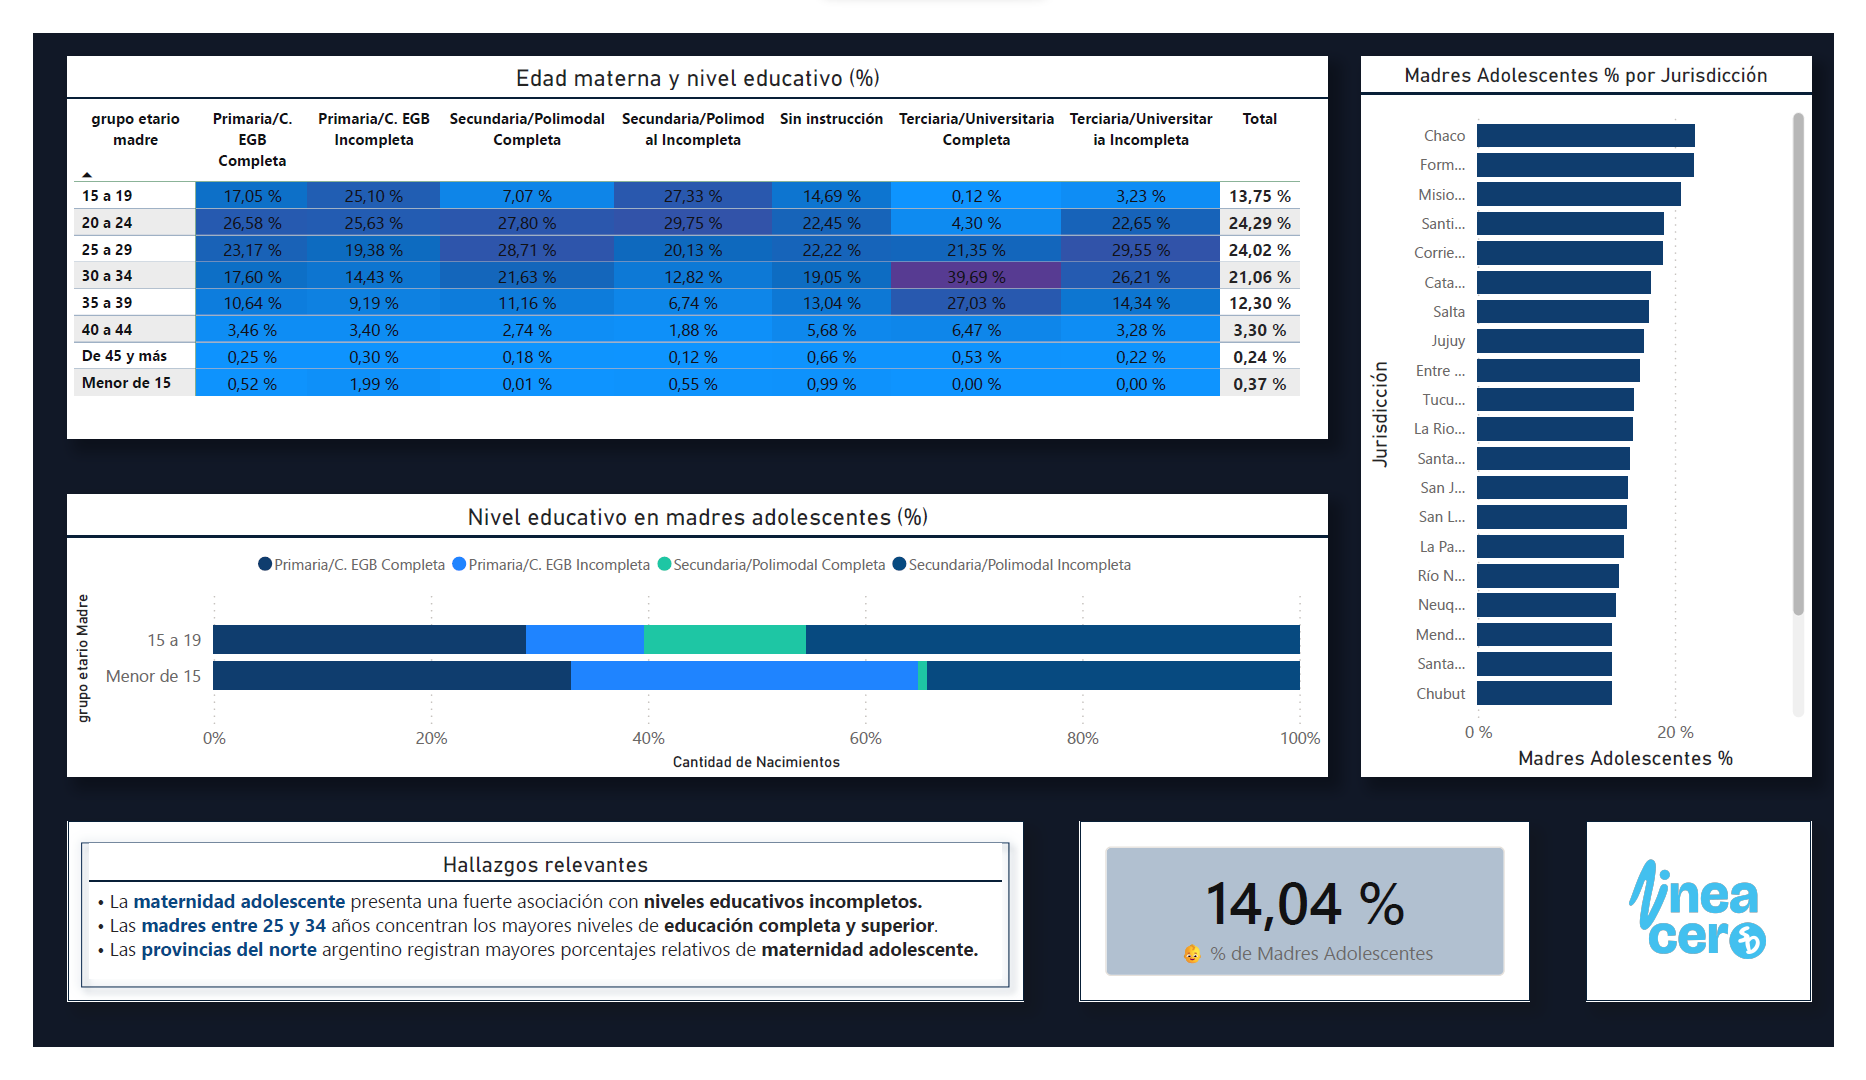

Layout of this report page (visuals, bound fields, positions):
{"tool":"powerbi","page":{"name":"Perfil Materno y Social","canvas":[1280,720],"ordinal":1},"visuals":[{"type":"pivotTable","title":"Edad materna y nivel educativo (%)","fields":{"Rows":["dim dim_edad_madre.edad_madre_grupo"],"Columns":["dim dim_instruccion.instruccion_madre"],"Values":["fact fact_nacimientos.Porcentaje_Nacimientos"]},"box":[24,16,896,272],"z":0},{"type":"hundredPercentStackedBarChart","title":"Nivel educativo en madres adolescentes (%)","fields":{"Category":["dim dim_edad_madre.edad_madre_grupo"],"Series":["dim dim_instruccion.instruccion_madre"],"Y":["Sum(fact fact_nacimientos.nacimientos_cantidad)"]},"box":[24,328,896,200],"z":1000},{"type":"clusteredBarChart","fields":{"Category":["dim dim_jurisdiccion.jurisdicion_residencia_nombre"],"Y":["fact fact_nacimientos.Porcentaje_Madres_Adolescentes"]},"box":[944,16,320,512],"z":2000},{"type":"shape","box":[24,560,680,128],"z":3000,"group":"g1"},{"type":"cardVisual","title":"Nacimientos en madres menores de 20 años","fields":{"Data":["fact fact_nacimientos.Porcentaje_Madres_Adolescentes"]},"box":[744,560,320,128],"z":3000},{"type":"image","box":[1104,560,160,128],"z":4000},{"type":"textbox","title":"Hallazgos relevantes","box":[40.2,576,647.6,96],"z":4000,"group":"g1"},{"type":"group","id":"g1","title":"Grupo 1","box":[24,560,680,128],"z":5000}]}

Visuals, with their boxes in screenshot pixels (x1, y1, x2, y2), scaled from the page's 1280x720 canvas onto the 1866x1080 screenshot:
"Edad materna y nivel educativo (%)" pivotTable: rect(35, 24, 1341, 432)
"Nivel educativo en madres adolescentes (%)" hundredPercentStackedBarChart: rect(35, 492, 1341, 792)
clusteredBarChart - dim dim_jurisdiccion.jurisdicion_residencia_nombre x fact fact_nacimientos.Porcentaje_Madres_Adolescentes: rect(1376, 24, 1843, 792)
shape: rect(35, 840, 1026, 1032)
"Nacimientos en madres menores de 20 años" cardVisual: rect(1085, 840, 1551, 1032)
image: rect(1609, 840, 1843, 1032)
"Hallazgos relevantes" textbox: rect(59, 864, 1003, 1008)
"Grupo 1" group: rect(35, 840, 1026, 1032)
